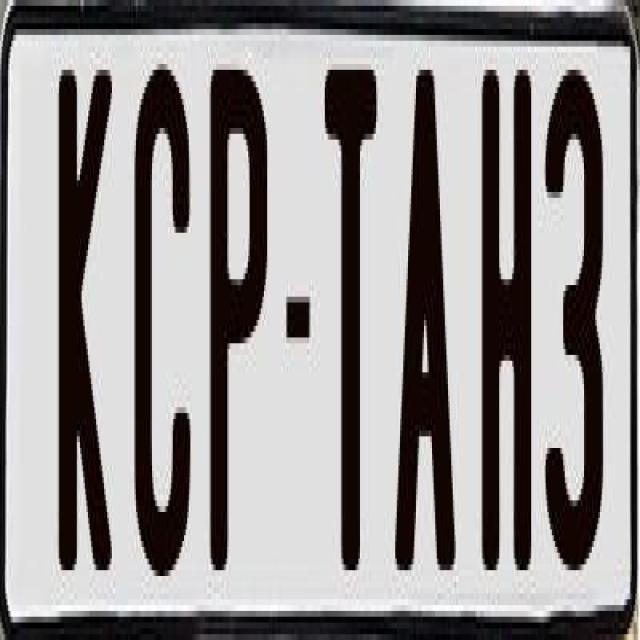3: (542, 58, 608, 582)
A: (390, 63, 458, 600)
C: (130, 64, 188, 605)
H: (478, 70, 538, 582)
K: (60, 52, 116, 564)
P: (210, 52, 276, 558)
T: (323, 70, 381, 600)
